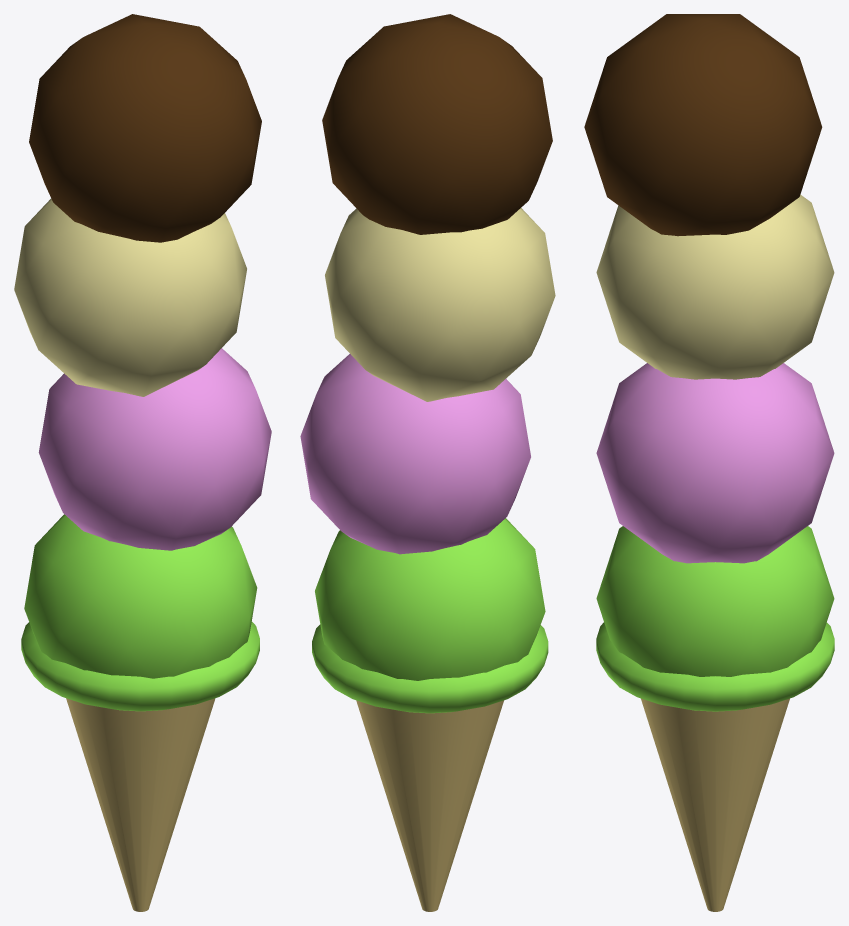
File: iceCream.fbx
3 views of the same model, side by side, from view 1: azimuth 30°, elevation 25°; view 2: azimuth 150°, elevation 25°; view 3: azimuth 270°, elevation 25° (orthographic).
Visible parts, largest first — view 1: Ice Cream; view 2: Ice Cream; view 3: Ice Cream.
Boxes of the visible parts, left/top/right/bottom form: Ice Cream: left=14, top=14, right=271, bottom=911; Ice Cream: left=300, top=14, right=555, bottom=911; Ice Cream: left=584, top=14, right=834, bottom=911.
Bounding box in the file's own units: 12.74 × 12.52 × 49.04.
